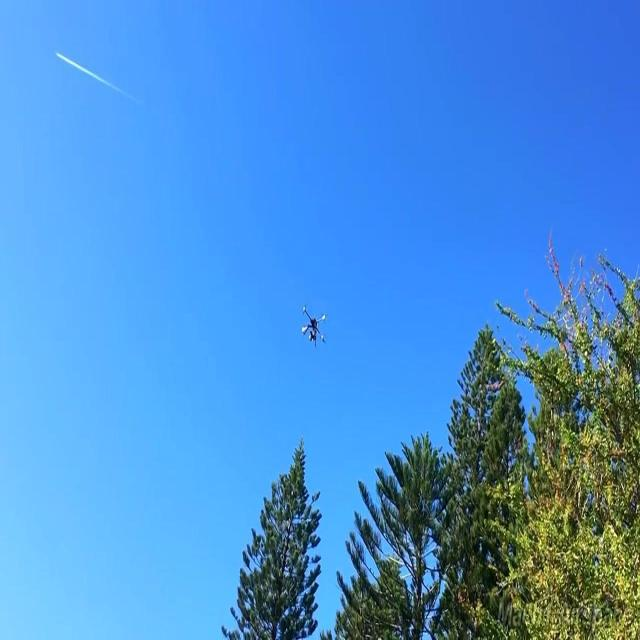drone: (299, 302, 329, 352)
